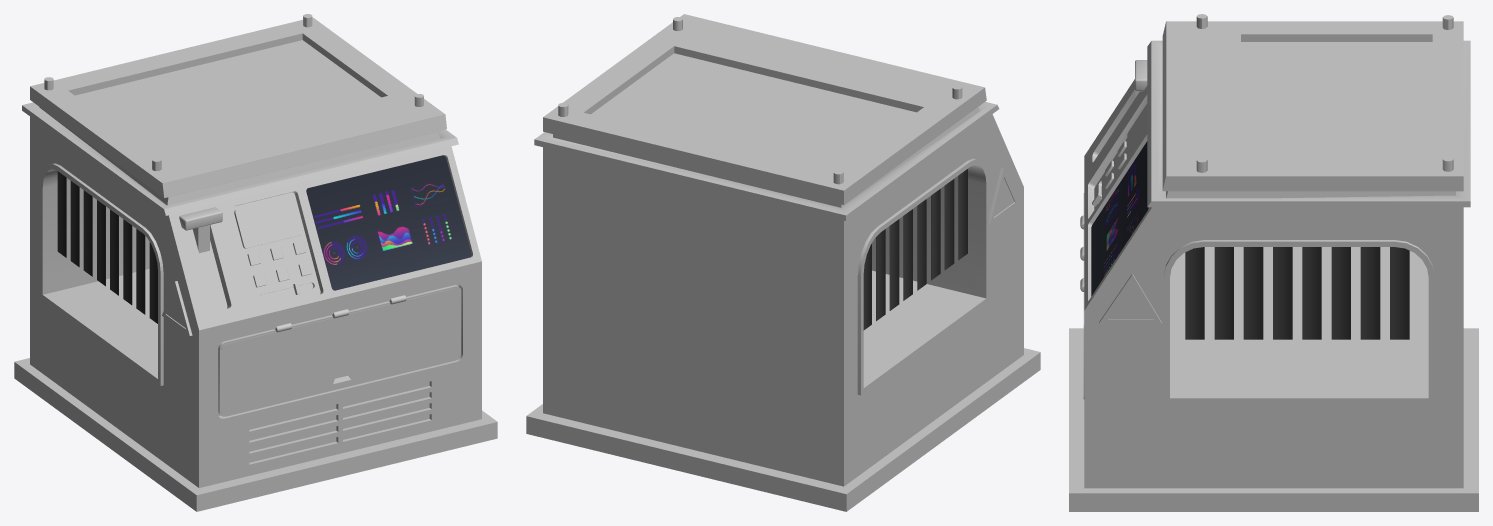
Rendered from Machine_v4_3.fbx.
3 views of the same model, side by side, from view 1: azimuth 30°, elevation 25°; view 2: azimuth 150°, elevation 25°; view 3: azimuth 270°, elevation 25° (orthographic). The views are drawn at different scales.
Parts seen in each view (by area): view 1: Machn_v4_3, Plane_v4_3, Machn_v4_3_Button; view 2: Machn_v4_3, Plane_v4_3; view 3: Machn_v4_3, Plane_v4_3_2.
Boxes of the visible parts, left/top/right/bottom form: Machn_v4_3: left=14, top=14, right=497, bottom=511; Plane_v4_3: left=57, top=171, right=157, bottom=323; Machn_v4_3_Button: left=179, top=207, right=222, bottom=253; Machn_v4_3: left=526, top=14, right=1040, bottom=511; Plane_v4_3: left=863, top=169, right=967, bottom=330; Machn_v4_3: left=1069, top=14, right=1478, bottom=511; Plane_v4_3_2: left=1185, top=247, right=1409, bottom=339.
Bounding box in the file's own units: 263 × 254 × 276.
